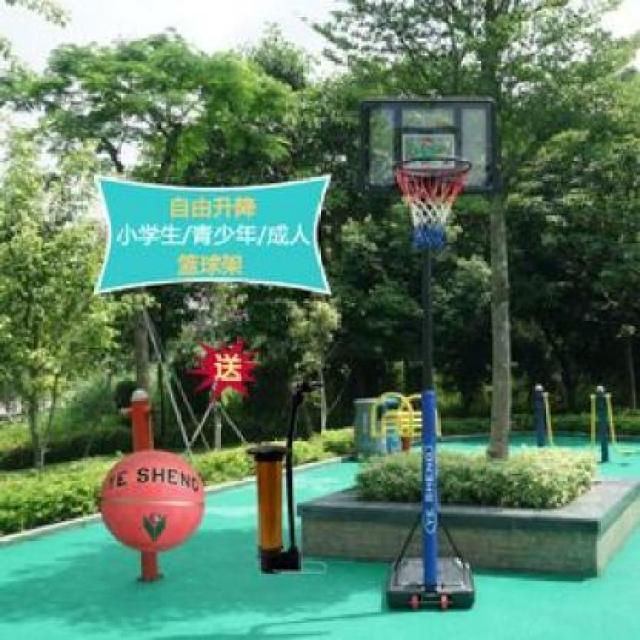rim: (394, 154, 472, 253)
